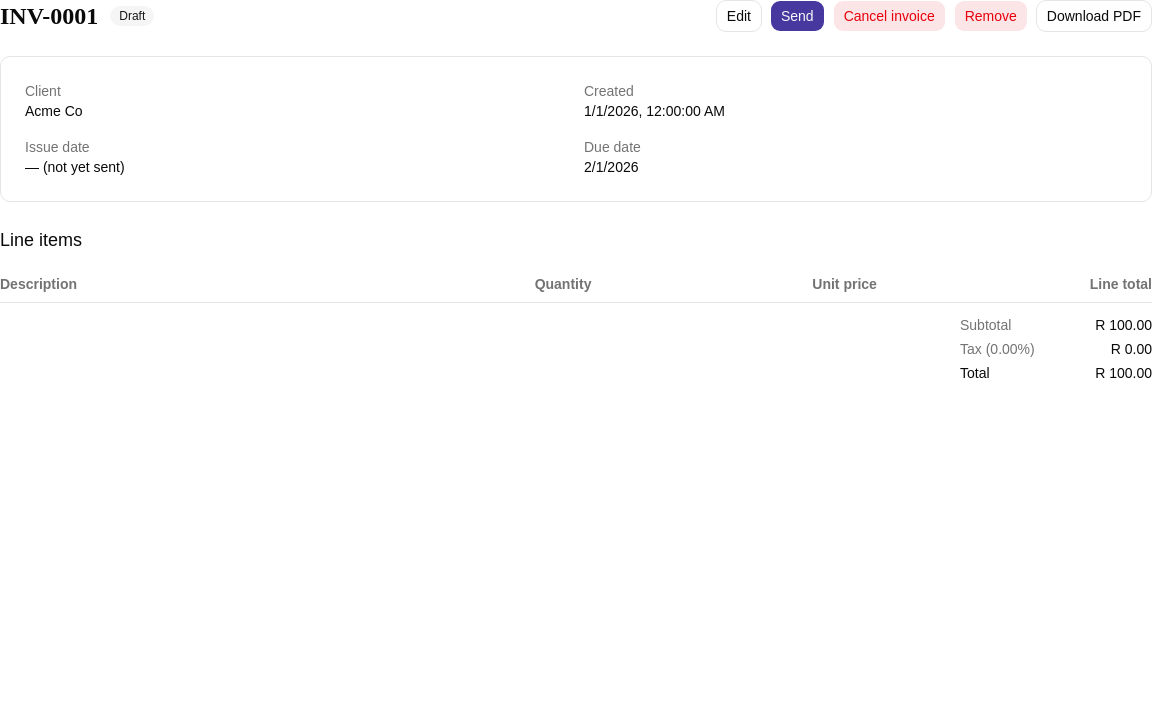
Test: InvoiceDetailPage — Send email delivery outcome › shows the Send-specific info Alert when email delivery fails, without the destructive error Alert
Click the button "Send". click: (797, 16)
box: [770,0,825,32]
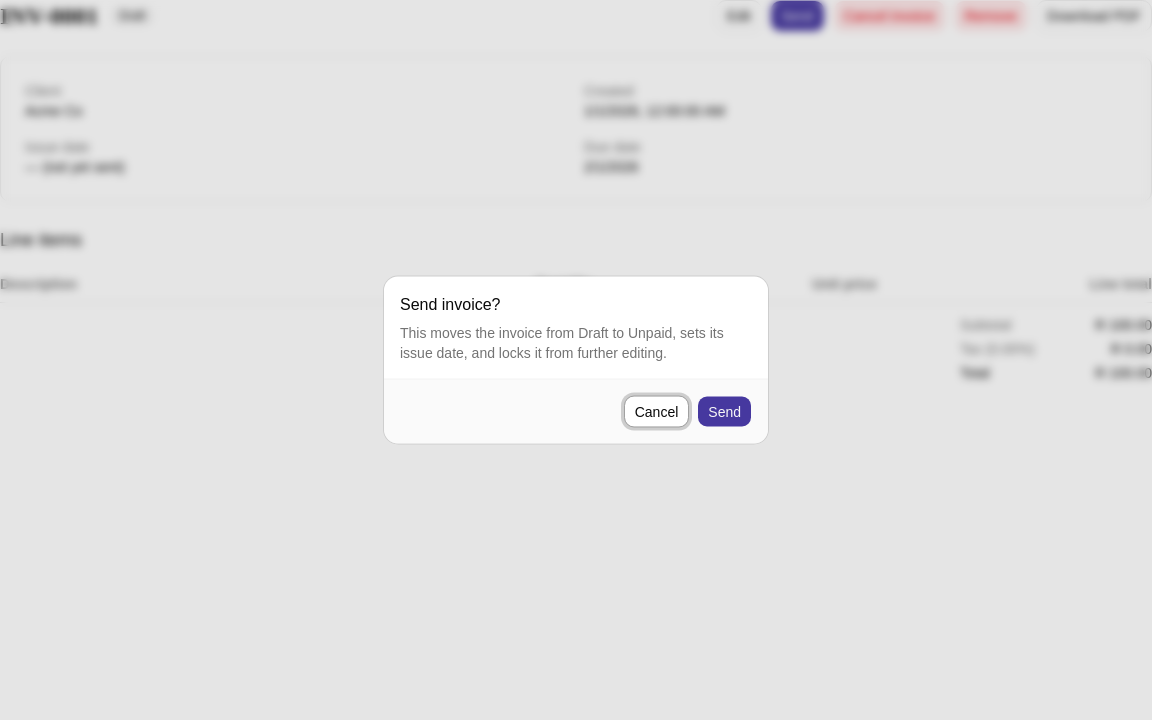
Click the button "Send". click: (725, 412)
box: [697,396,752,428]
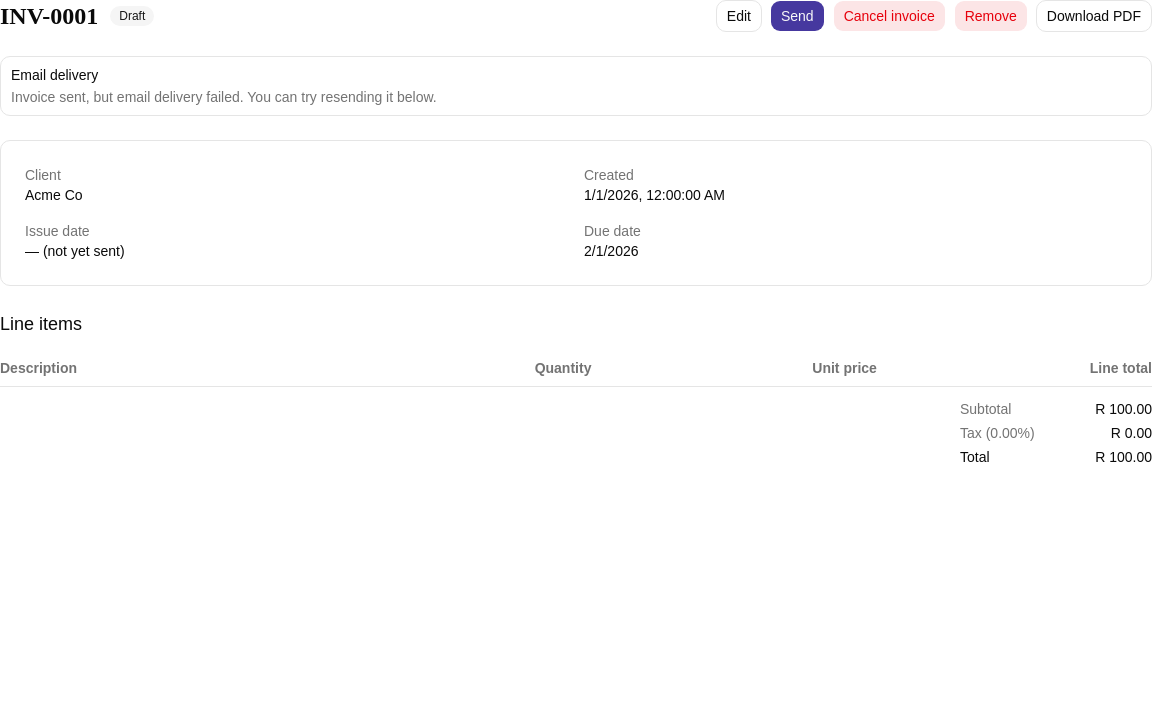
Now the text "Invoice sent, but email delivery failed. You can try resending it below." is shown, box [11,89,437,105]
